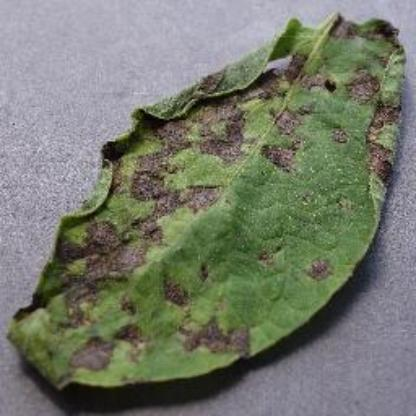Early-Blight: (11, 16, 407, 398)
